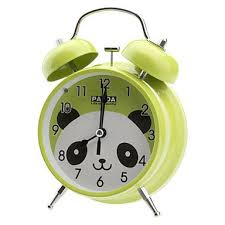alarm_clock: (40, 9, 187, 214)
